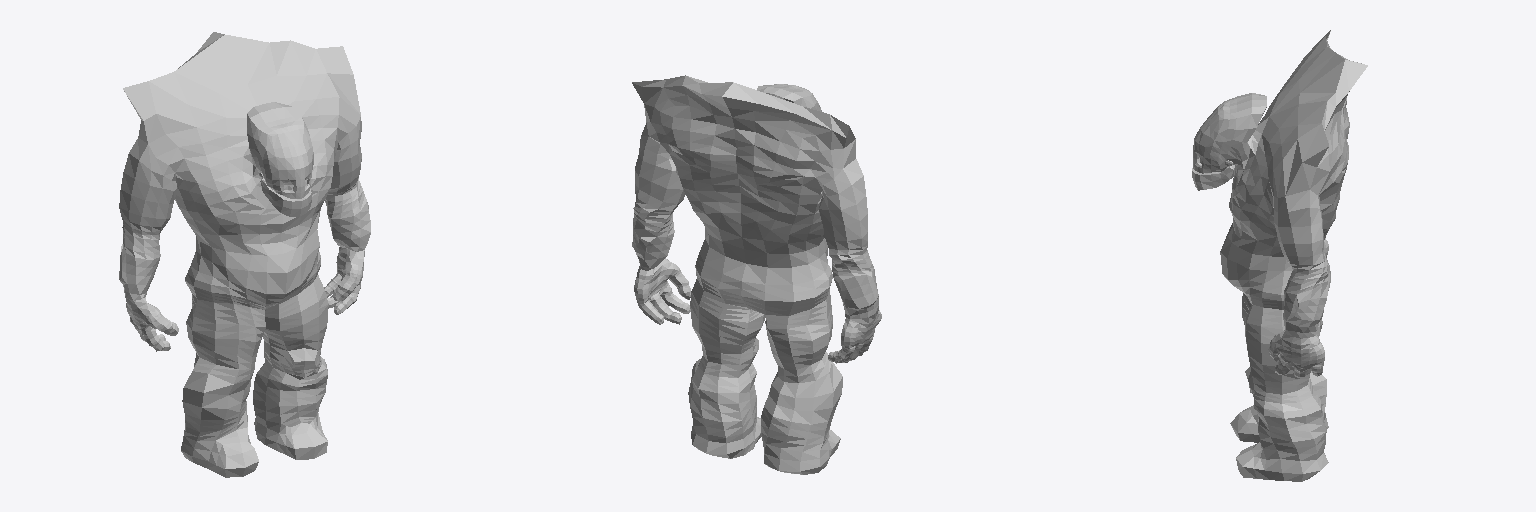
Rendered from golem_000012.obj.
3 views of the same model, side by side, from view 1: azimuth 30°, elevation 25°; view 2: azimuth 150°, elevation 25°; view 3: azimuth 270°, elevation 25° (orthographic).
Visible parts, largest first — view 1: golem; view 2: golem; view 3: golem.
Part boxes in pixels (x1,y1,x2,y2): golem: (119, 32, 370, 477); golem: (632, 75, 881, 474); golem: (1192, 30, 1367, 481).
Bounding box in the file's own units: 7.35 × 11.31 × 4.6.